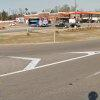Car: (53, 16, 78, 29)
